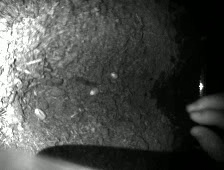corn: (34, 108, 46, 120), (89, 88, 98, 96), (110, 72, 118, 79)
